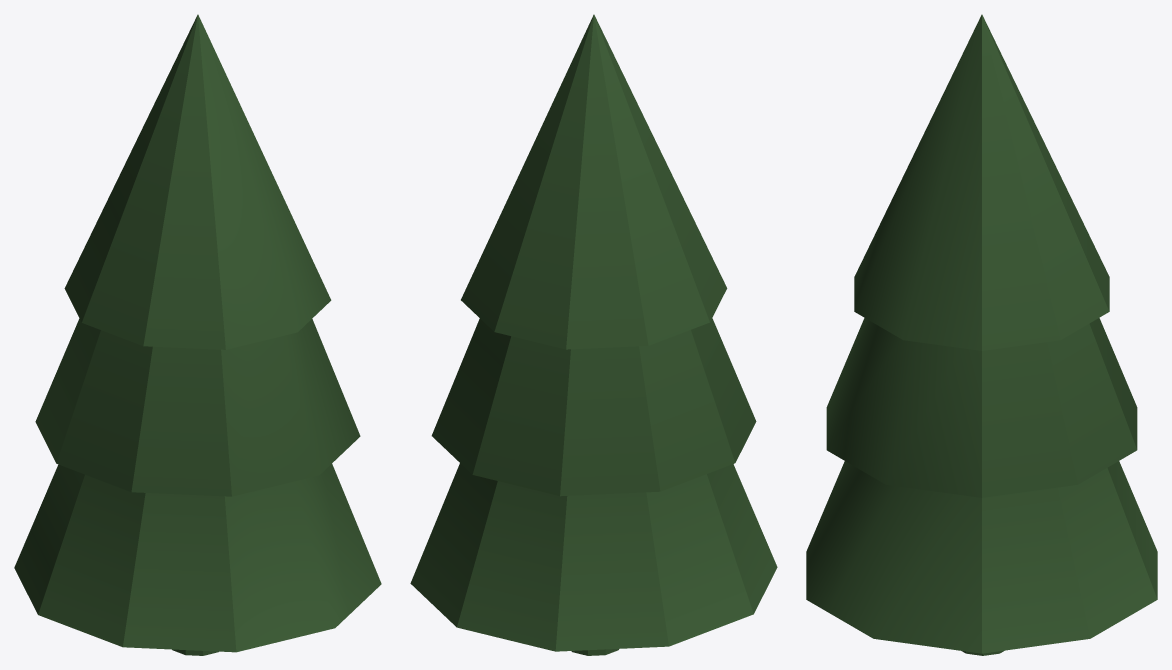
File: tree1_large.fbx
3 renders of one model, left to right at view 1: azimuth 30°, elevation 25°; view 2: azimuth 150°, elevation 25°; view 3: azimuth 270°, elevation 25°, orthographic.
Parts seen in each view (by area): view 1: pCylinder2; view 2: pCylinder2; view 3: pCylinder2.
Boxes of the visible parts, box(x1,y1,x2,y2) form: pCylinder2: box(14, 14, 381, 655); pCylinder2: box(410, 14, 777, 655); pCylinder2: box(806, 14, 1157, 655).
Bounding box in the file's own units: 13.11 × 24.68 × 12.47.
